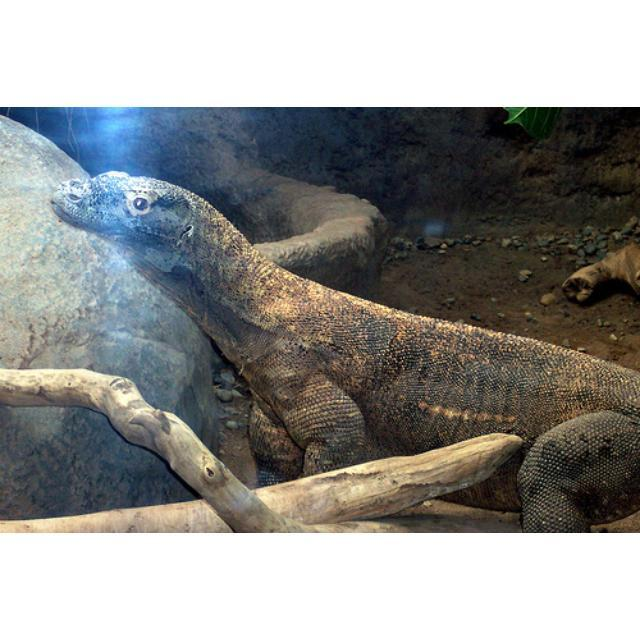KomodoDragon: (45, 170, 637, 530)
